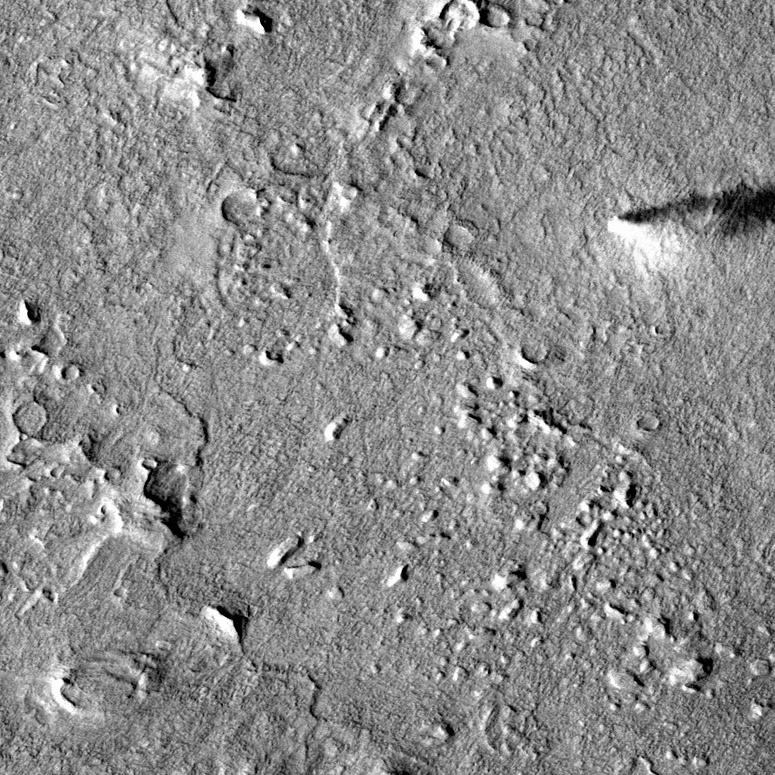dust_devil: (605, 178, 775, 279)
